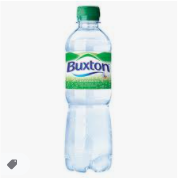Bottle: (66, 5, 112, 172)
